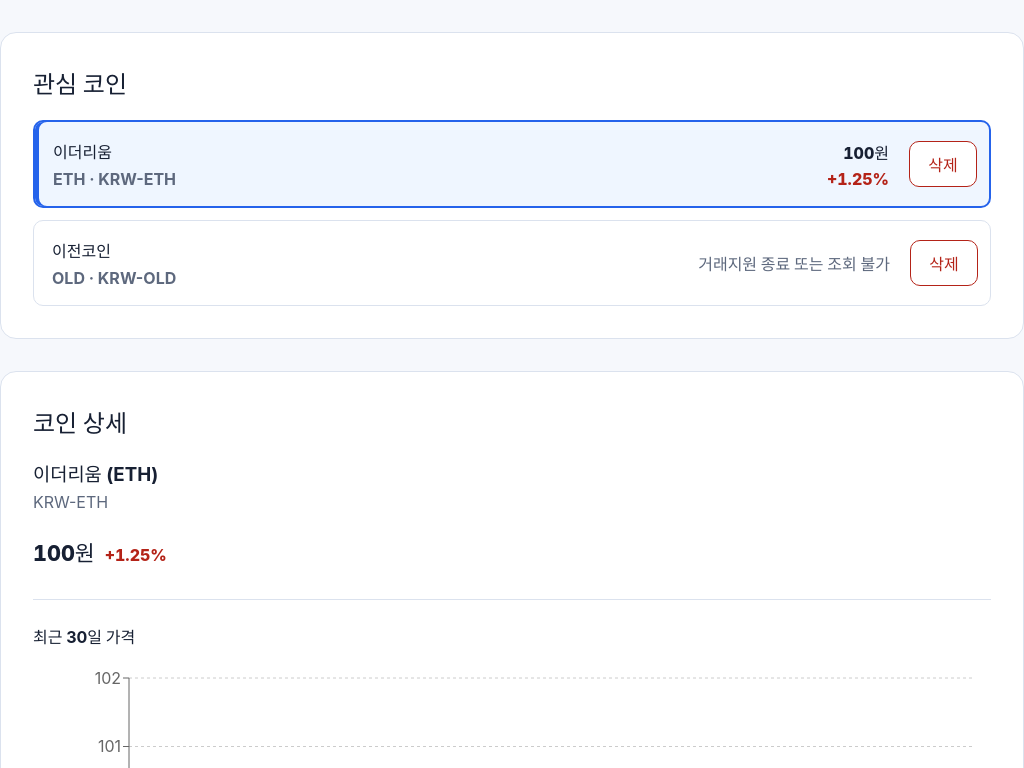
Test: DELETE 성공 후 서버 목록 reconciliation › 선택 항목 삭제 후 서버 첫 항목이 UNAVAILABLE이면 이전 차트를 지우고 새 차트를 요청하지 않는다
What coordinates should you click on to do the following:
click the button with aria-label "이더리움 삭제"
I would click on:
 (943, 164)
Its box is [909, 141, 977, 187].
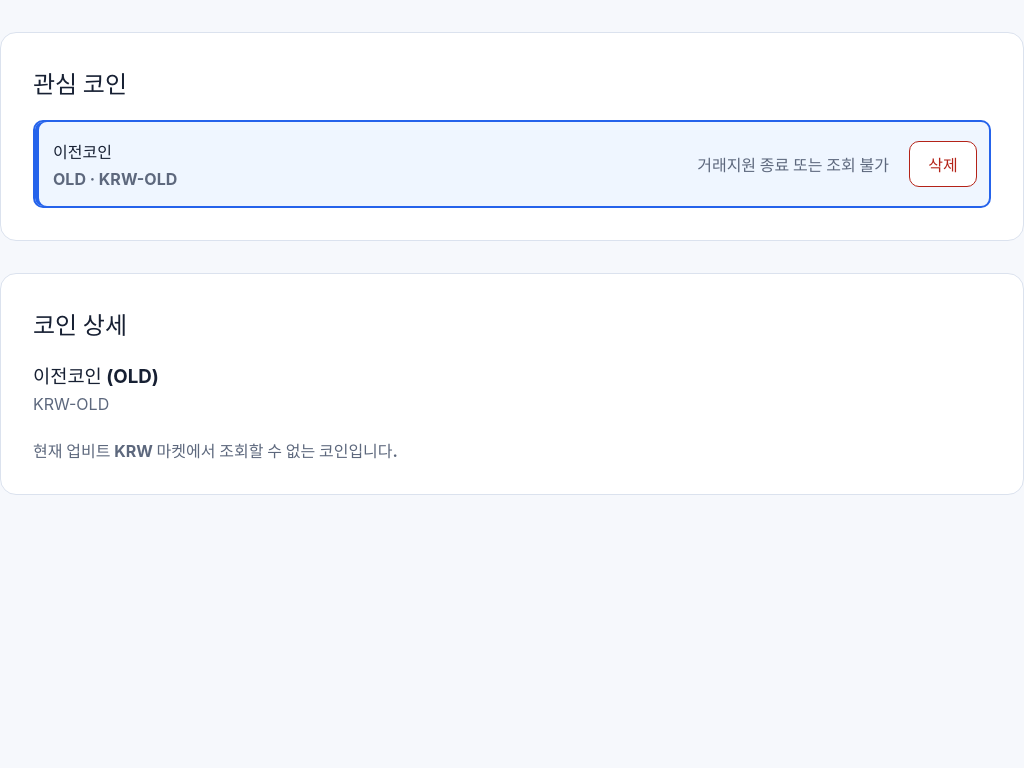
Expected: the text "현재 업비트 KRW 마켓에서 조회할 수 없는 코인입니다." is shown, [33, 441, 398, 461]
